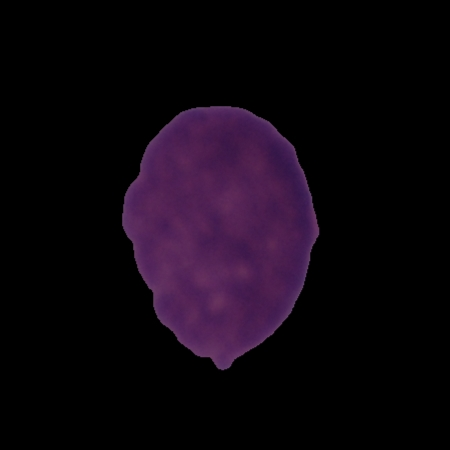HEM: (118, 101, 322, 373)
